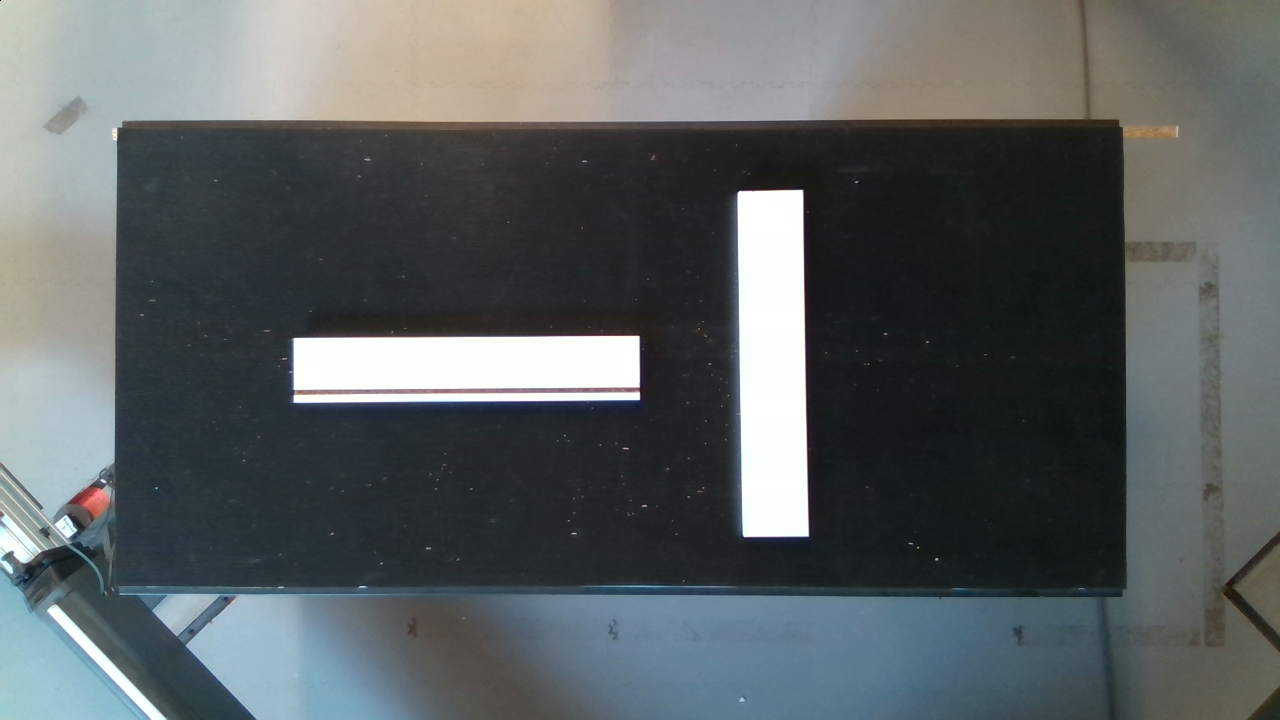part1: (714, 172, 827, 550), (281, 322, 658, 417)
